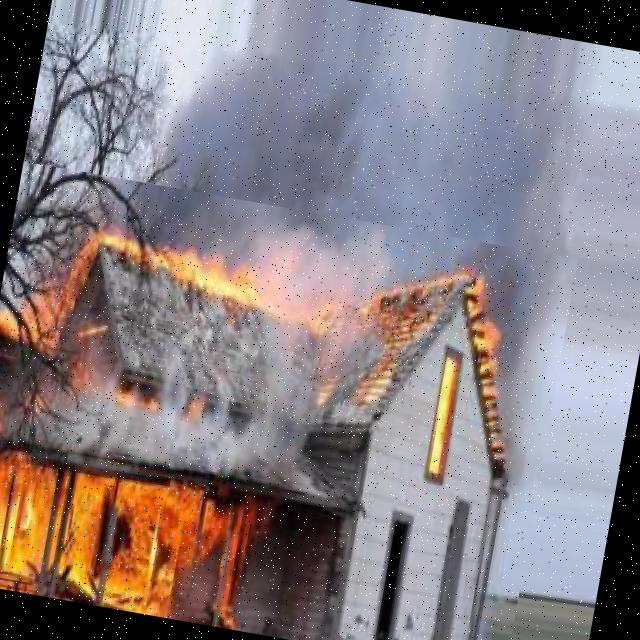fire: (0, 161, 577, 640)
